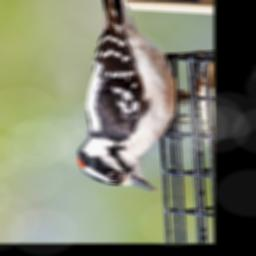Woodpecker: (74, 0, 191, 193)
